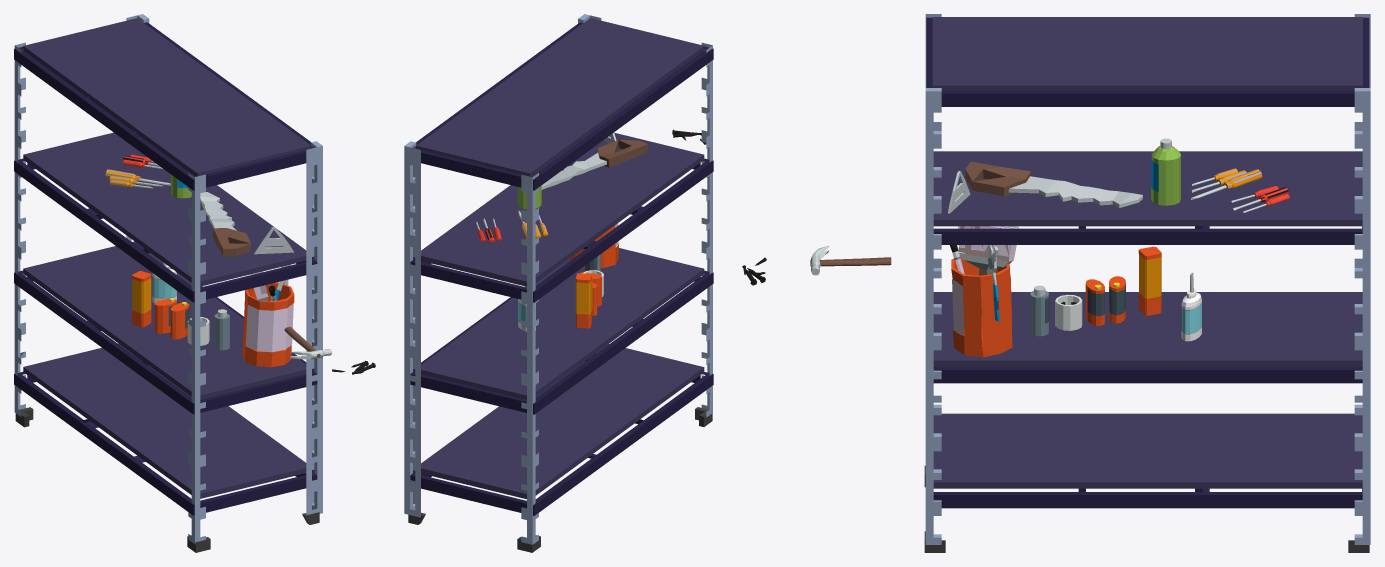
File: compressed_Decors_4.glb
3 views of the same model, side by side, from view 1: azimuth 30°, elevation 25°; view 2: azimuth 150°, elevation 25°; view 3: azimuth 270°, elevation 25° (orthographic). The views are drawn at different scales.
Visible parts, largest first — view 1: Shelf_Cube.004, propTools1, Hand Saw, group348818362, group1677974325, oilProps, group1903879849, group1673330486.063, group634296461, Glue; view 2: Shelf_Cube.004, Hand Saw, group348818362, propTools1; view 3: Shelf_Cube.004, propTools1, Hand Saw, group1416475030, group348818362, Paint Brush, Glue, group1115598653, oilProps, group634296461, group1677974325, group1903879849.
Part boxes in pixels (x1,y1,x2,y2): Shelf_Cube.004: (14,14,322,552); propTools1: (242,282,294,367); Hand Saw: (200,192,250,256); group348818362: (132,271,151,327); group1677974325: (170,303,189,339); oilProps: (214,309,229,350); group1903879849: (154,298,176,333); group1673330486.063: (253,227,293,254); group634296461: (284,326,332,359); Glue: (152,262,176,303); Shelf_Cube.004: (404,14,713,552); Hand Saw: (541,140,648,189); group348818362: (575,273,592,328); propTools1: (569,223,619,267); Shelf_Cube.004: (924,14,1370,552); propTools1: (951,253,1012,357); Hand Saw: (965,161,1142,207); group1416475030: (1151,138,1180,205); group348818362: (1138,246,1161,315); Paint Brush: (958,226,1019,316); Glue: (1181,273,1201,341); group1115598653: (1055,294,1082,330); oilProps: (1030,285,1048,336); group634296461: (810,245,891,275); group1677974325: (1085,279,1104,325); group1903879849: (1109,276,1125,323).
Bounding box in the file's own units: 1.19 × 3.31 × 4.05.
